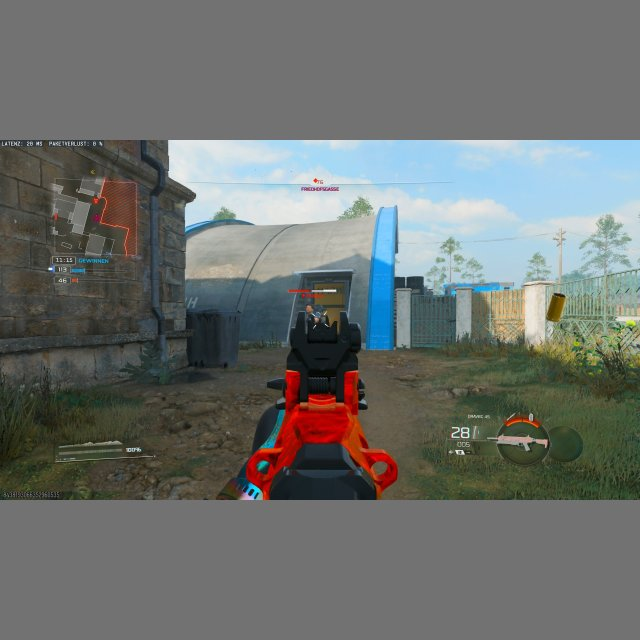player: (305, 303, 321, 327)
